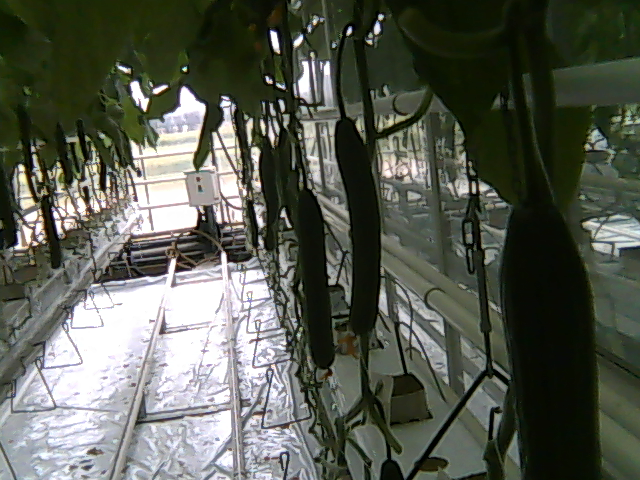concombre: (491, 184, 604, 480), (332, 113, 386, 356), (294, 181, 336, 379)
